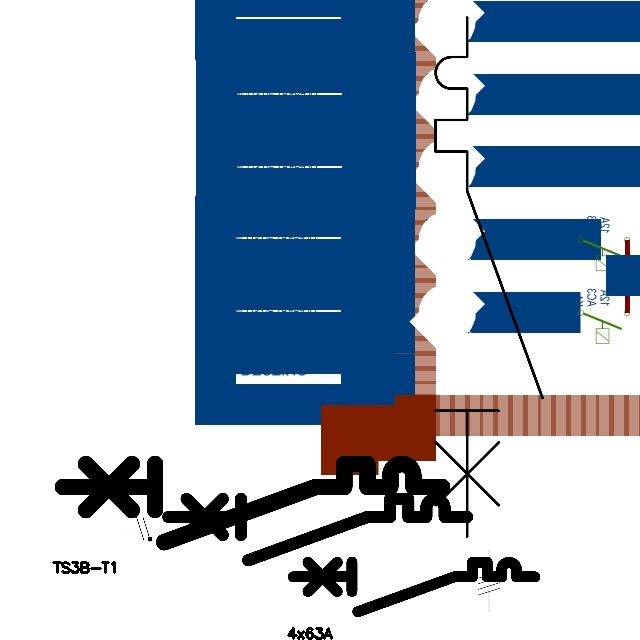interruptor_termomagnetico: (422, 4, 555, 550), (53, 454, 452, 551), (160, 491, 474, 568), (287, 556, 541, 618)
